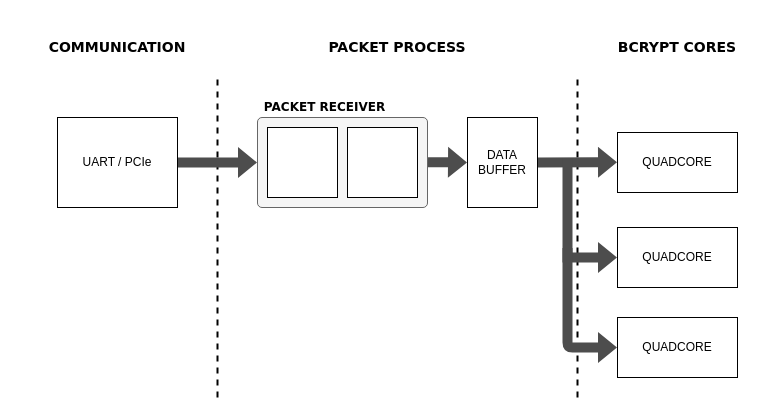
This 784x416 diagram has some shape labels left out. The shapes that lost their labels are listed below. From the top down, each one's centre as x and y in pixels, then its label:
At (x=302, y=162): "COBS DECODER".
At (x=382, y=162): "CRC CHECK".
